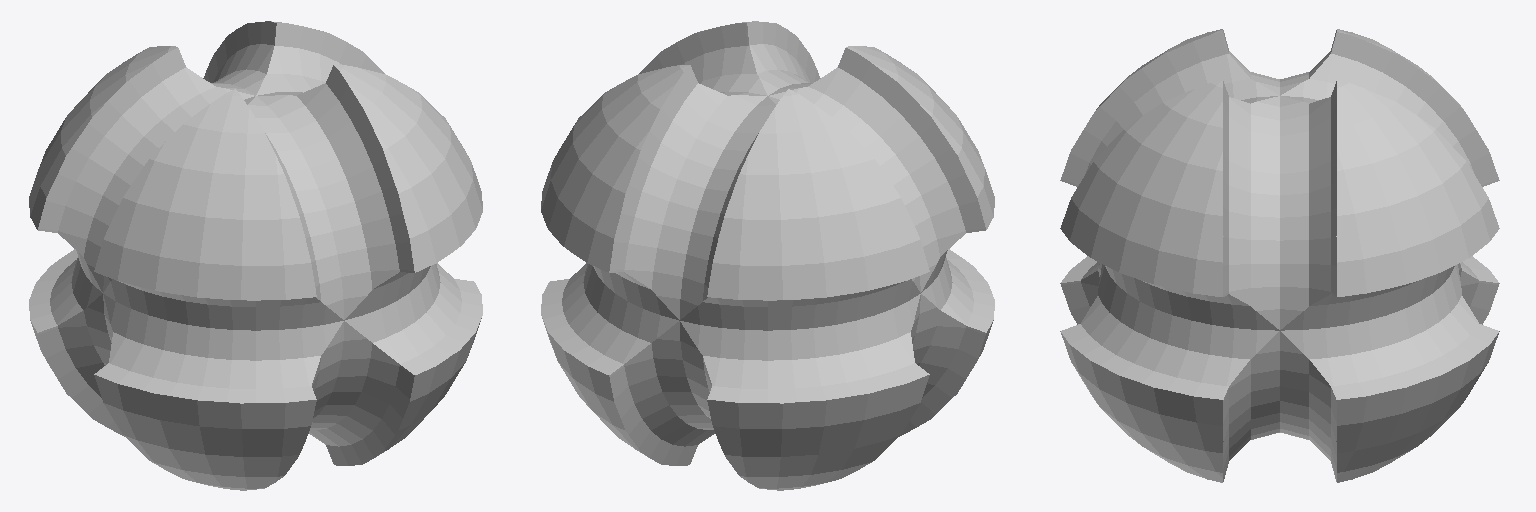
Rendered from orb.obj.
The picture shows the model from 3 angles: view 1: azimuth 30°, elevation 25°; view 2: azimuth 150°, elevation 25°; view 3: azimuth 270°, elevation 25°; orthographic projection.
Visible parts, largest first — view 1: Sphere; view 2: Sphere; view 3: Sphere.
Part boxes in pixels (bbox=[...]): Sphere: bbox=[29, 21, 482, 490]; Sphere: bbox=[541, 21, 994, 490]; Sphere: bbox=[1060, 29, 1499, 482].
Bounding box in the file's own units: 1.87 × 1.87 × 1.87.